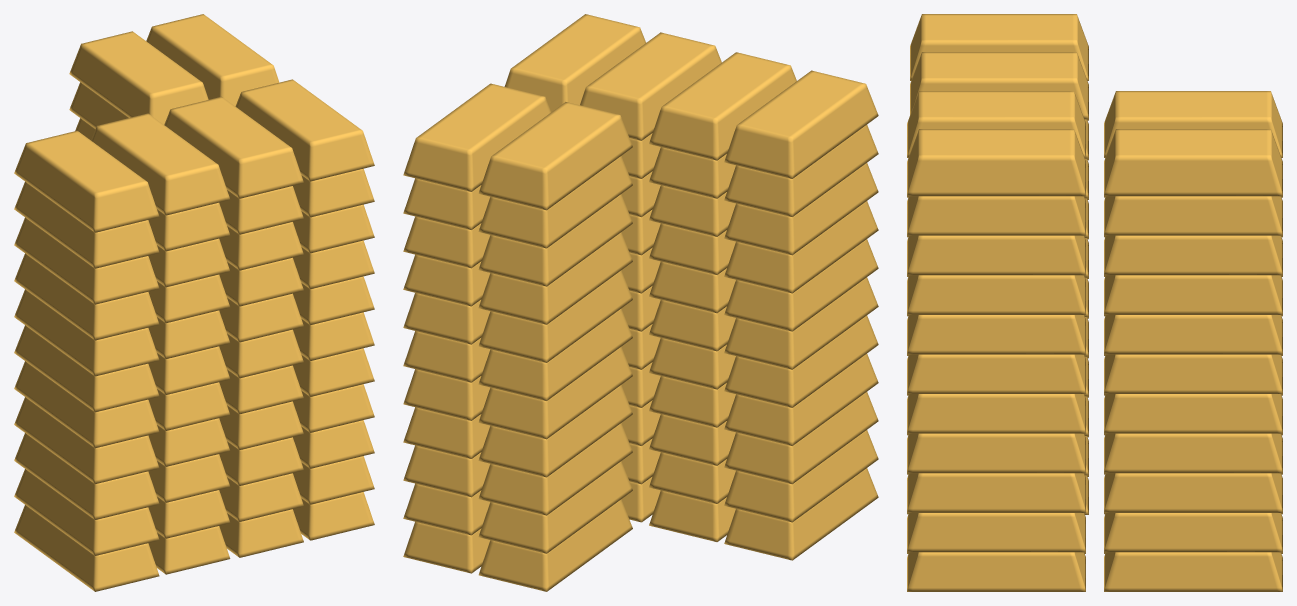
The model's file is goldbar.fbx.
3 renders of one model, left to right at view 1: azimuth 30°, elevation 25°; view 2: azimuth 150°, elevation 25°; view 3: azimuth 270°, elevation 25°, orthographic. The views are drawn at different scales.
Parts seen in each view (by area): view 1: goldbar; view 2: goldbar; view 3: goldbar.
Part boxes in pixels (x1=…): goldbar: x1=14, y1=14, x2=374, y2=591; goldbar: x1=403, y1=14, x2=878, y2=591; goldbar: x1=907, y1=14, x2=1282, y2=591.
Bounding box in the file's own units: 70.85 × 95.29 × 75.16.
Materials: 1 (1 with a texture image).
